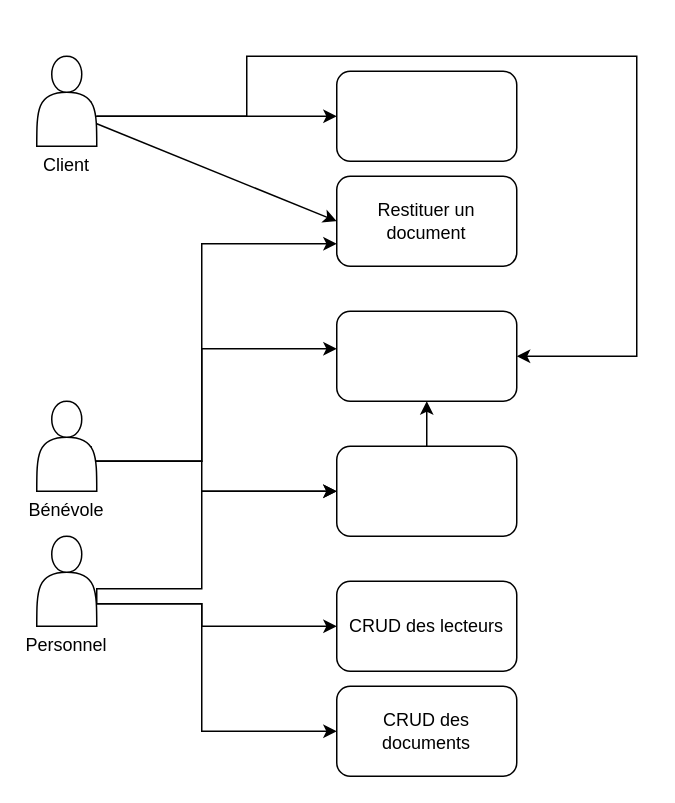
Some shapes in this 675 by 803 pixel diagram are drawn without their labels. Each missing label, with the centre of its shape:
Acheter ou prêter un document: (x=426, y=355)
Consulter un document: (x=426, y=115)
Inscrire un nouvel usager: (x=426, y=490)
